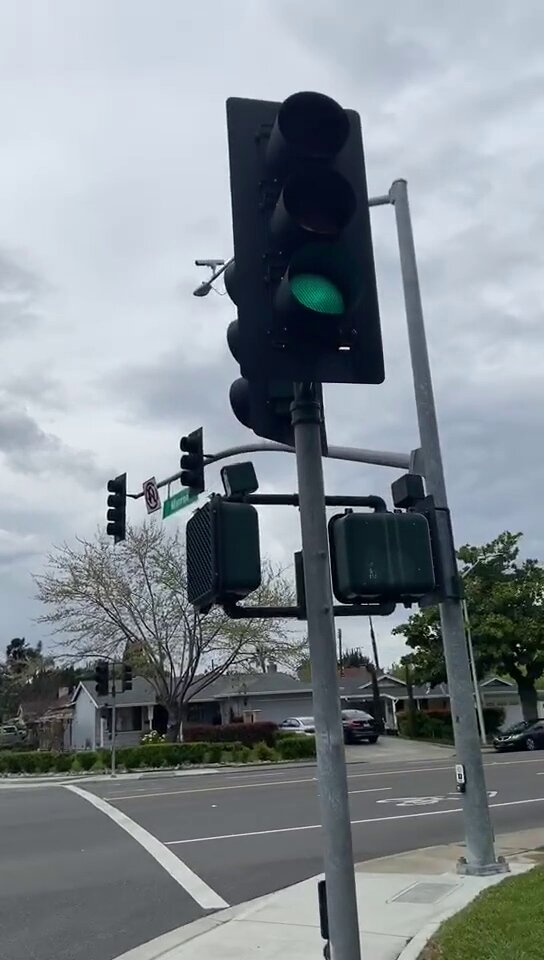green_light: (239, 110, 367, 375)
